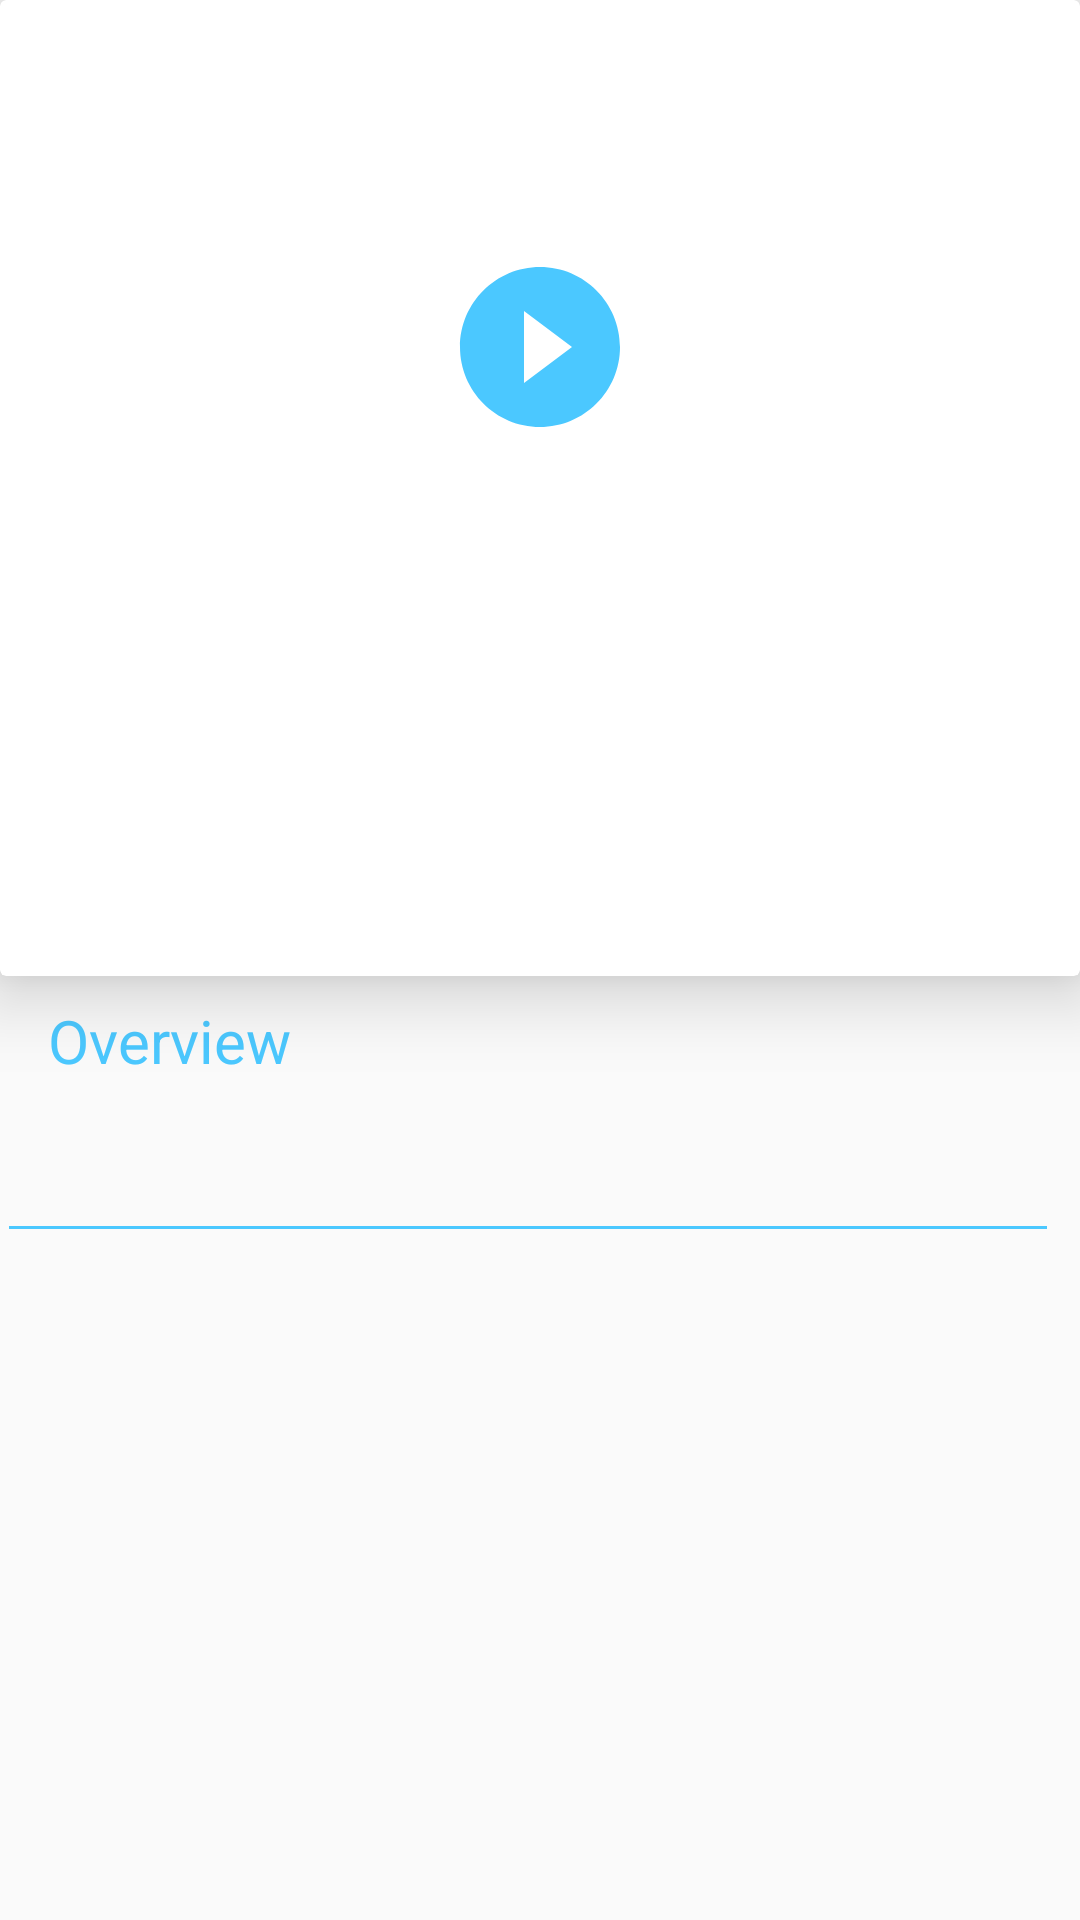

Where to tap for icons on this 1080 x 1920 app screen, as point (x, y):
play circle: point (540, 347)
